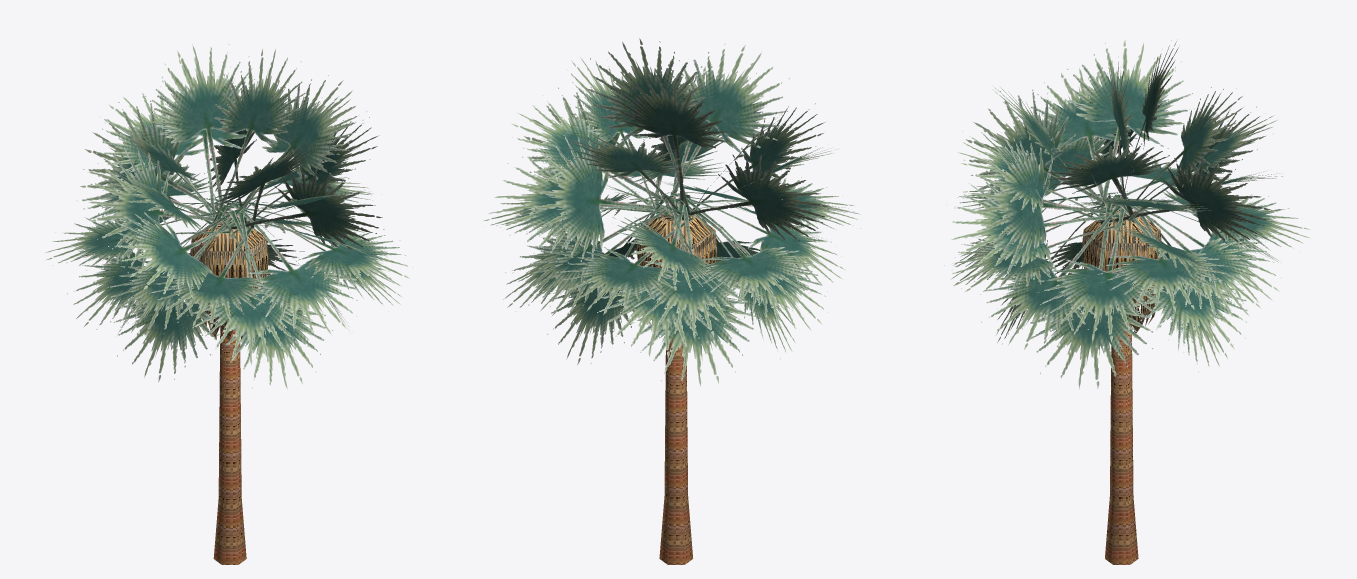
Rendered from LandFX_TP-BraheaArm-01.dae.
The picture shows the model from 3 angles, left to right: view 1: azimuth 30°, elevation 25°; view 2: azimuth 150°, elevation 25°; view 3: azimuth 270°, elevation 25°; orthographic projection. The views are drawn at different scales.
Visible parts, largest first — view 1: temp02 (×29), Trunk-Palm-hex-01_1, Component_4_3, Component_4_1; view 2: temp02 (×28), Trunk-Palm-hex-01_1, Component_4_2, Component_4_3; view 3: temp02 (×29), Trunk-Palm-hex-01_1, Component_4_1, Component_4_2.
Boxes of the visible parts, x1,y1,x2,y2 form: temp02 (×29): [45, 44, 413, 389]; Trunk-Palm-hex-01_1: [213, 325, 246, 564]; Component_4_3: [190, 223, 247, 340]; Component_4_1: [237, 219, 268, 292]; temp02 (×28): [483, 38, 861, 386]; Trunk-Palm-hex-01_1: [659, 338, 693, 564]; Component_4_2: [636, 215, 696, 324]; Component_4_3: [684, 214, 717, 266]; temp02 (×29): [944, 40, 1310, 389]; Trunk-Palm-hex-01_1: [1105, 323, 1138, 564]; Component_4_1: [1082, 216, 1141, 332]; Component_4_2: [1124, 210, 1161, 332].
Bounding box in the file's own units: 146 × 148 × 207.
3 materials, 3 textured.
